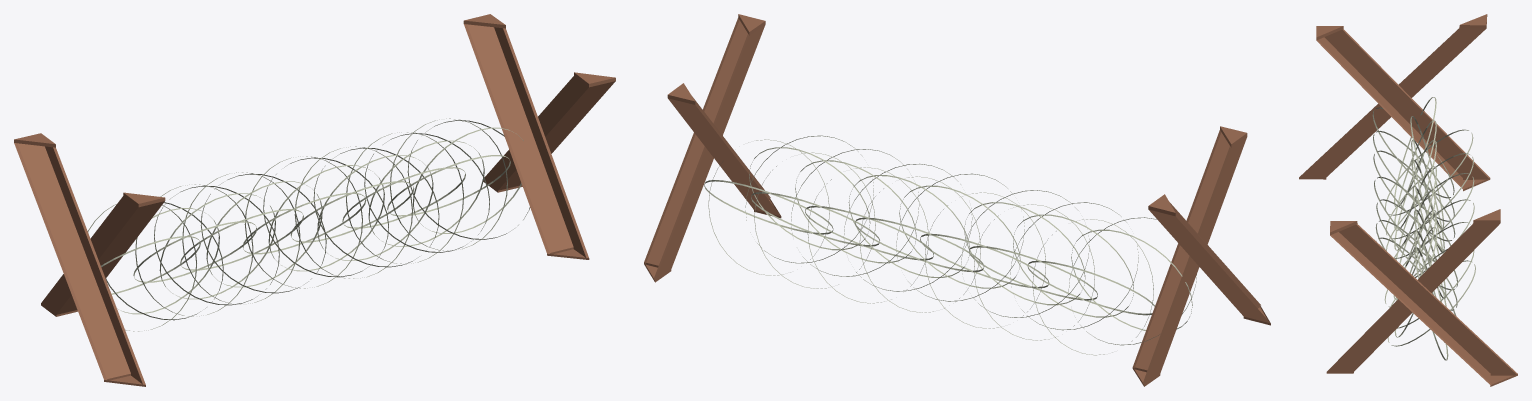
Rendered from BARRICADE2.fbx.
3 renders of one model, left to right at view 1: azimuth 30°, elevation 25°; view 2: azimuth 150°, elevation 25°; view 3: azimuth 270°, elevation 25°, orthographic. The views are drawn at different scales.
Visible parts, largest first — view 1: Cube; view 2: Cube; view 3: Cube.
Part boxes in pixels (x1,y1,x2,y2): Cube: [14, 14, 615, 386]; Cube: [644, 14, 1270, 386]; Cube: [1299, 14, 1517, 386].
Size of the model in its own units: 1743 by 602 by 731.
